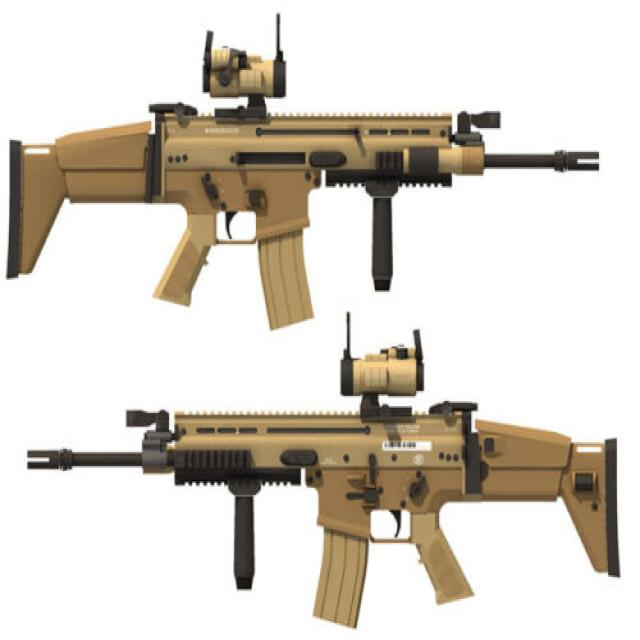Rifle: (4, 31, 602, 333), (27, 331, 620, 630)
